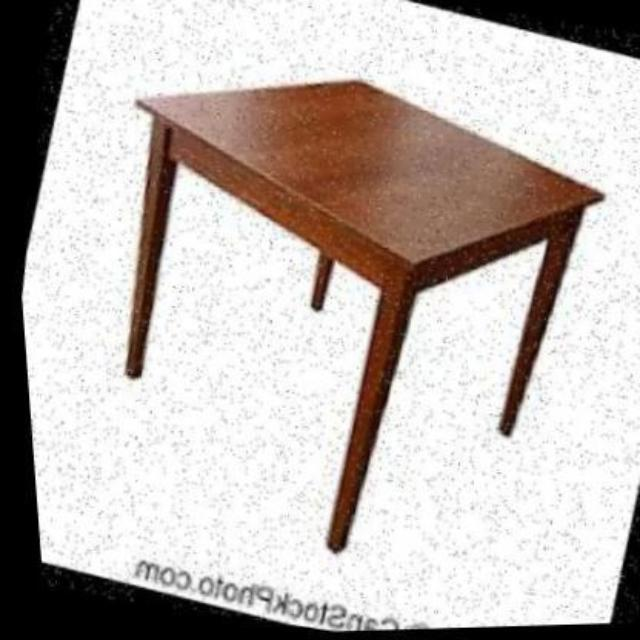table: (127, 68, 595, 560)
